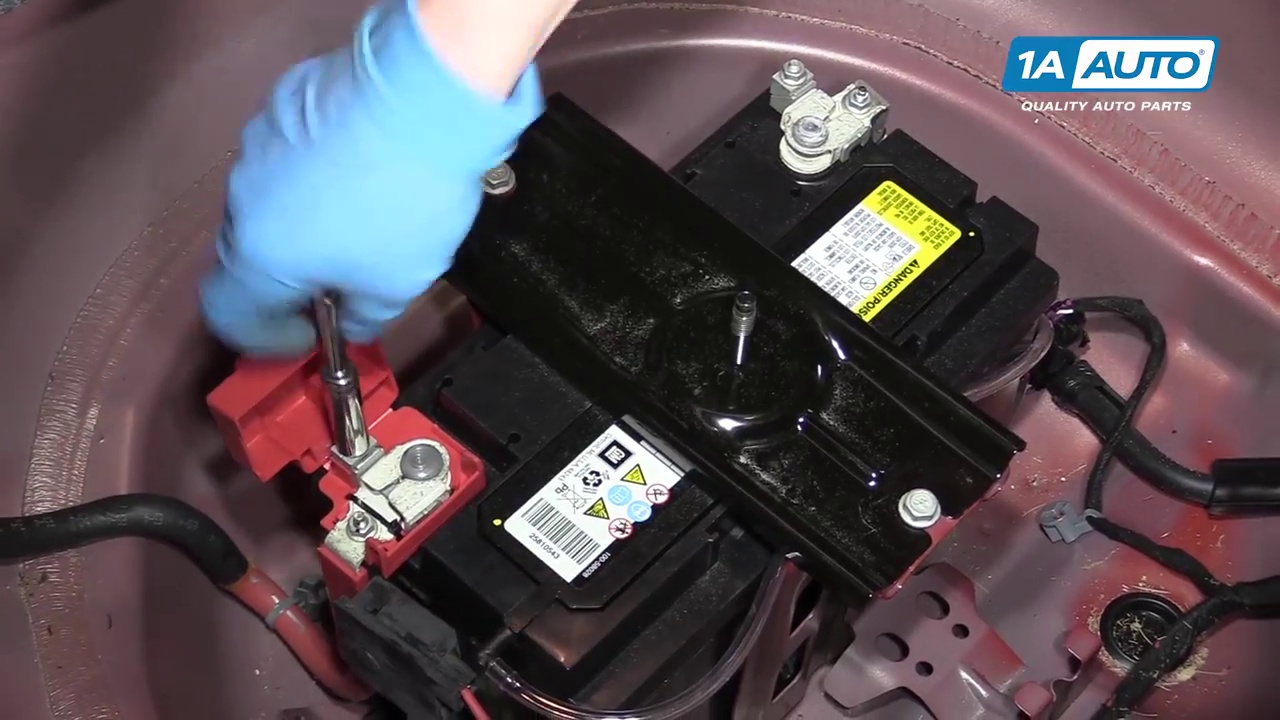battery: (311, 63, 1046, 659)
neg_connected: (737, 49, 907, 192)
pos_connected: (224, 375, 501, 596)
pos_touched: (182, 188, 478, 583)
